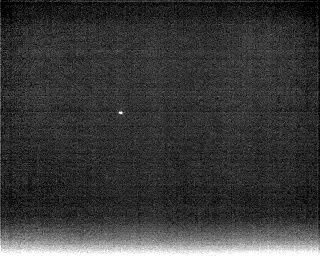AIRPLANE: (116, 108, 125, 117)
